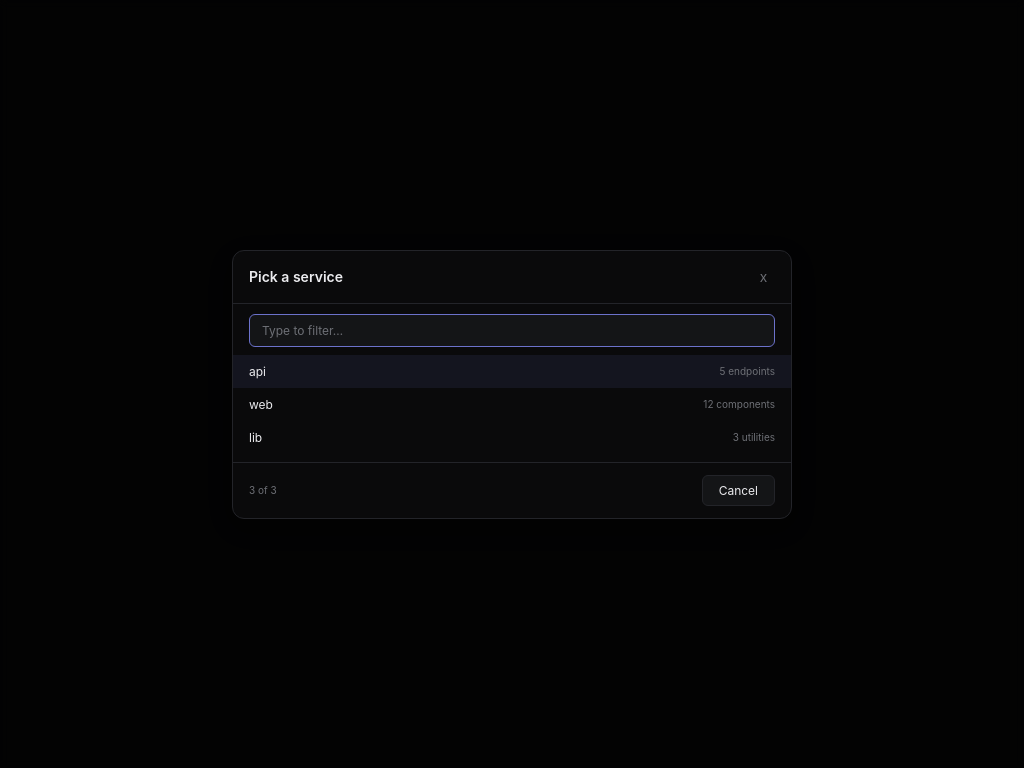
ScopePicker — UX-50a › search with no match renders the no-match placeholder
In the field with test id "ca-scope-picker-search": (512, 330) [249,314,775,346], type "zzzz"
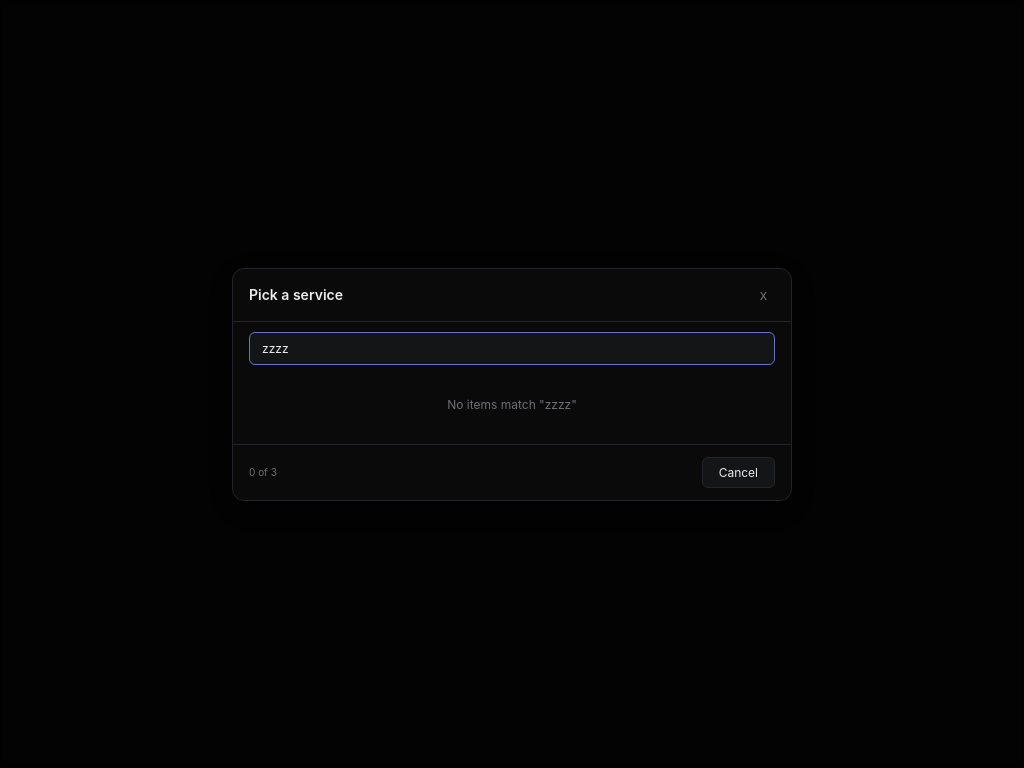
Result: the text "No items match \"zzzz\"" is shown at [447,396,577,412]
